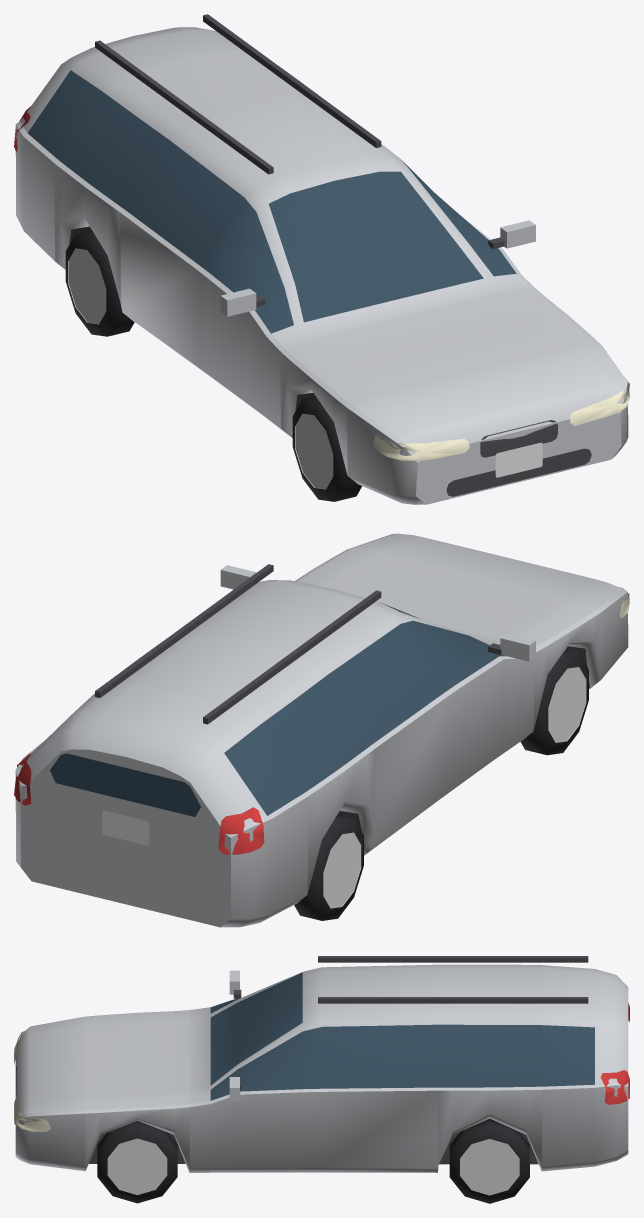
3 renders of one model, top to bottom at view 1: azimuth 30°, elevation 25°; view 2: azimuth 150°, elevation 25°; view 3: azimuth 270°, elevation 25°, orthographic. The views are drawn at different scales.
Visible parts, largest first — view 1: 355; view 2: 355; view 3: 355.
Part boxes in pixels (box(x1,y1,x2,y2)): 355: box(14, 14, 629, 504); 355: box(14, 533, 629, 927); 355: box(14, 956, 629, 1203).
Size of the model in its own units: 2.17 by 1.54 by 4.81.
